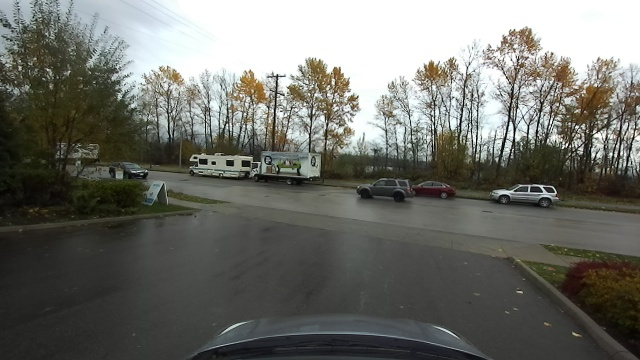car: (251, 149, 322, 188), (490, 181, 561, 211), (186, 152, 249, 180), (355, 177, 412, 202), (55, 140, 100, 167), (414, 177, 458, 203), (101, 160, 150, 181)
